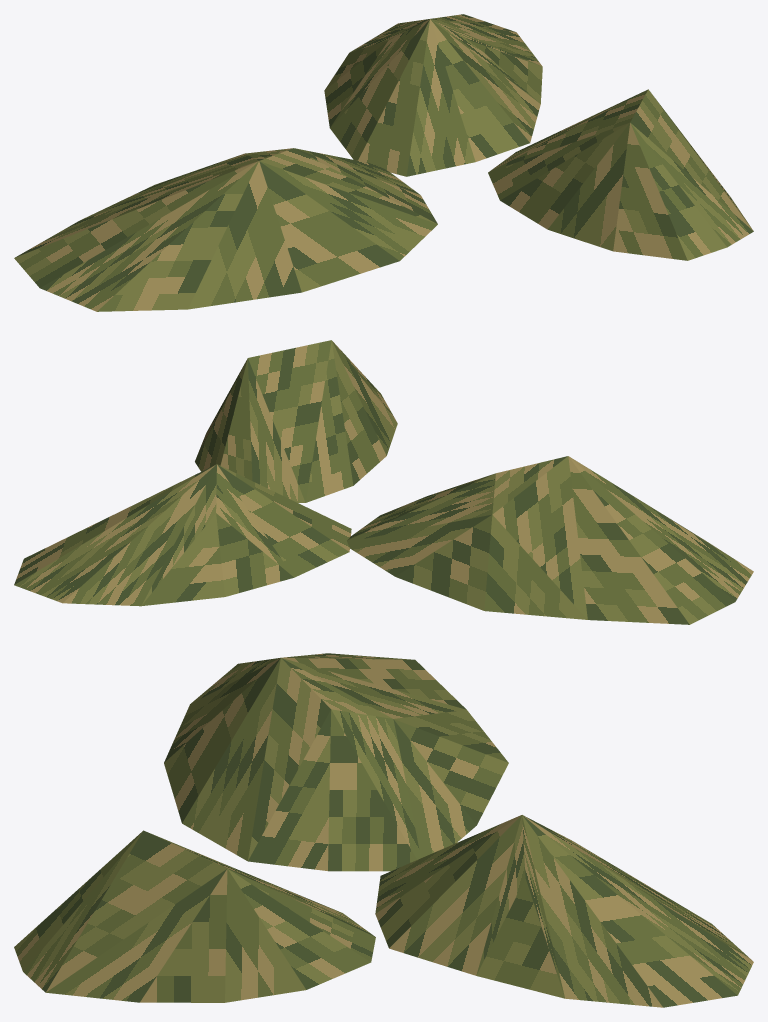
File: weed.glb
The picture shows the model from 3 angles, top to bottom: view 1: azimuth 30°, elevation 25°; view 2: azimuth 150°, elevation 25°; view 3: azimuth 270°, elevation 25°; orthographic projection. The views are drawn at different scales.
Visible parts, largest first — view 1: block_dried leaf 0, block_dried leaf 1, block_dried leaf 2; view 2: block_dried leaf 0, block_dried leaf 1, block_dried leaf 2; view 3: block_dried leaf 0, block_dried leaf 1, block_dried leaf 2.
Boxes of the visible parts, box(x1,y1,x2,y2) form: block_dried leaf 0: box(14, 148, 437, 311); block_dried leaf 1: box(324, 14, 542, 176); block_dried leaf 2: box(488, 89, 753, 260); block_dried leaf 0: box(347, 456, 753, 624); block_dried leaf 1: box(14, 464, 351, 606); block_dried leaf 2: box(195, 340, 397, 502); block_dried leaf 0: box(164, 653, 508, 871); block_dried leaf 1: box(375, 815, 753, 1007); block_dried leaf 2: box(14, 830, 375, 1002).
Bounding box in the file's own units: 0.0518 × 0.00786 × 0.0457.
Materials: 1 (1 with a texture image).
